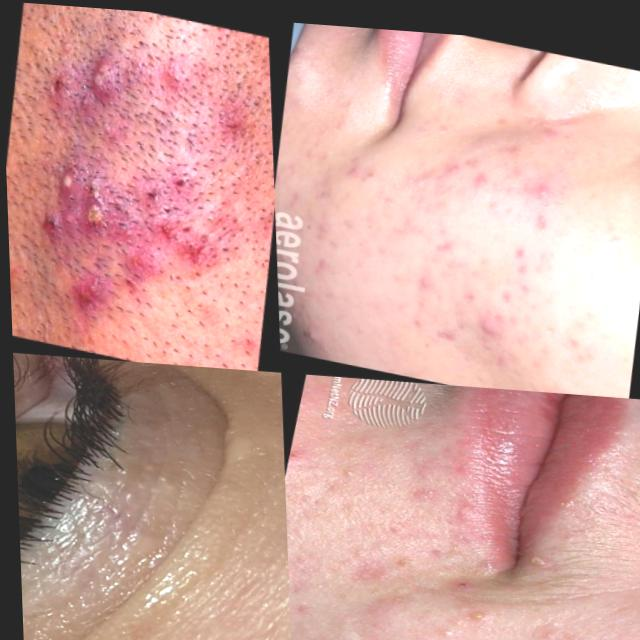7: (552, 129, 579, 149)
8: (514, 161, 566, 208), (399, 259, 442, 291)
9: (284, 315, 328, 349), (516, 544, 553, 566), (459, 600, 492, 619)
blackheads: (486, 230, 543, 301), (420, 305, 466, 354), (548, 314, 590, 359), (232, 365, 279, 401), (397, 300, 424, 338), (425, 223, 461, 248)
pustules: (459, 296, 504, 339)
whiteheads: (45, 165, 115, 239), (80, 49, 127, 92)
